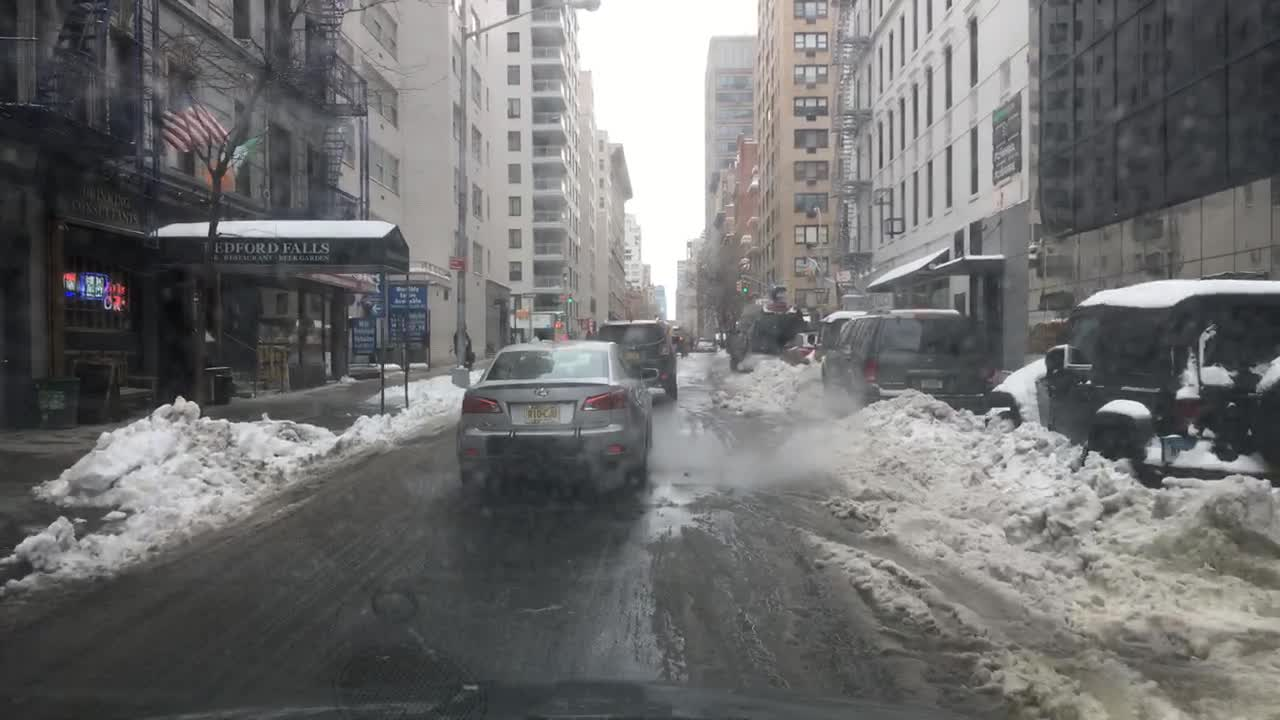car: (1043, 277, 1278, 489), (457, 337, 662, 498), (818, 307, 996, 418), (594, 314, 680, 401), (805, 304, 867, 371), (777, 327, 819, 367), (674, 326, 693, 358), (697, 337, 718, 353)
person: (451, 322, 477, 374)
traffic light: (739, 277, 751, 296), (734, 278, 743, 294), (565, 291, 574, 304)
